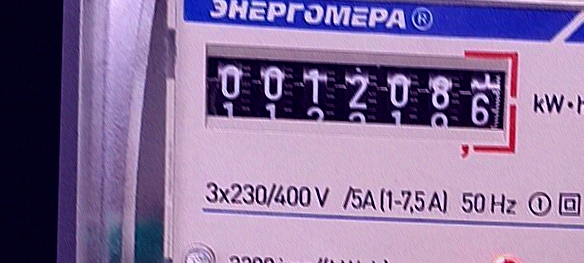0: (217, 60, 244, 99), (261, 63, 286, 100), (386, 70, 411, 107)
1: (303, 65, 325, 104)
2: (345, 71, 372, 110)
6: (467, 89, 491, 126)
8: (427, 72, 453, 110)
screen: (195, 35, 527, 158)
